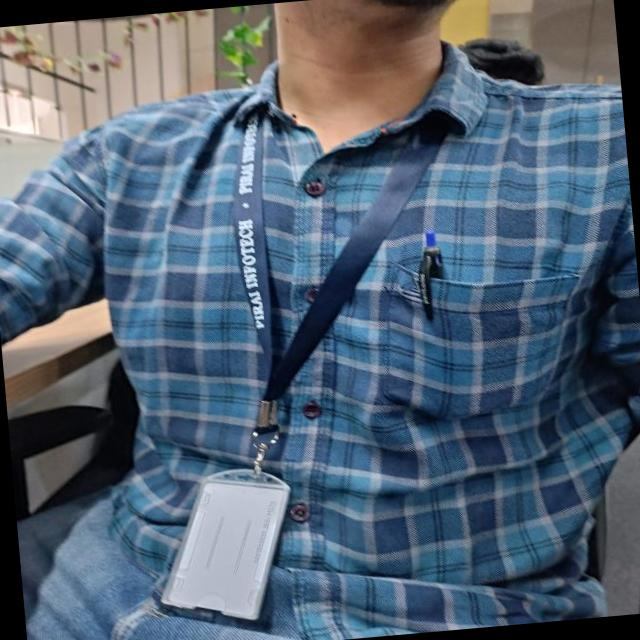id_card: (118, 82, 502, 632)
